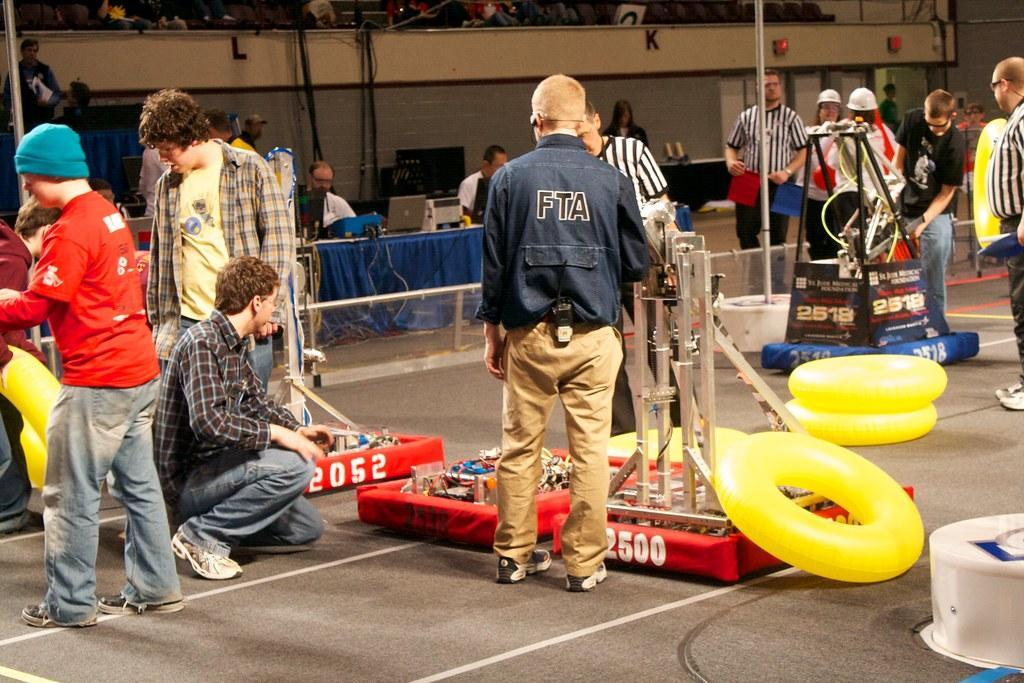robot: (553, 234, 914, 582), (270, 147, 445, 495), (352, 439, 684, 547)
